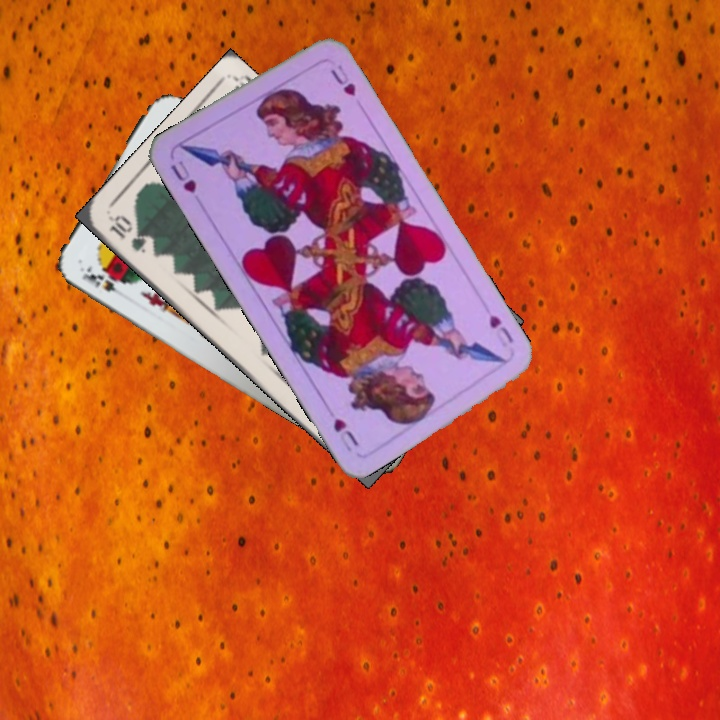G10: (104, 211, 149, 256)
HU: (166, 156, 199, 197), (485, 310, 516, 346)
SK: (78, 261, 129, 302)
